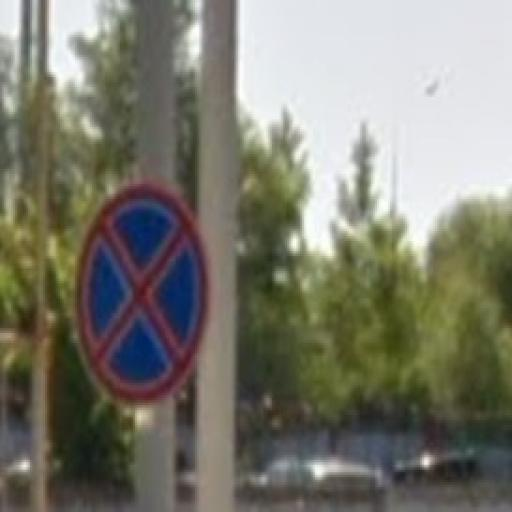traffic_sign: (74, 183, 209, 404)
